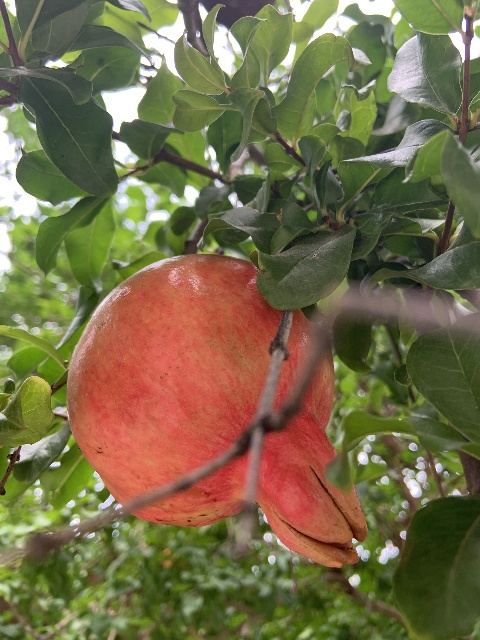ripe: (63, 254, 370, 568)
